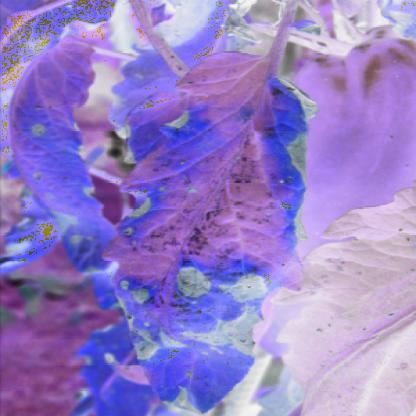Potato leaf early blight: (110, 48, 320, 411)
